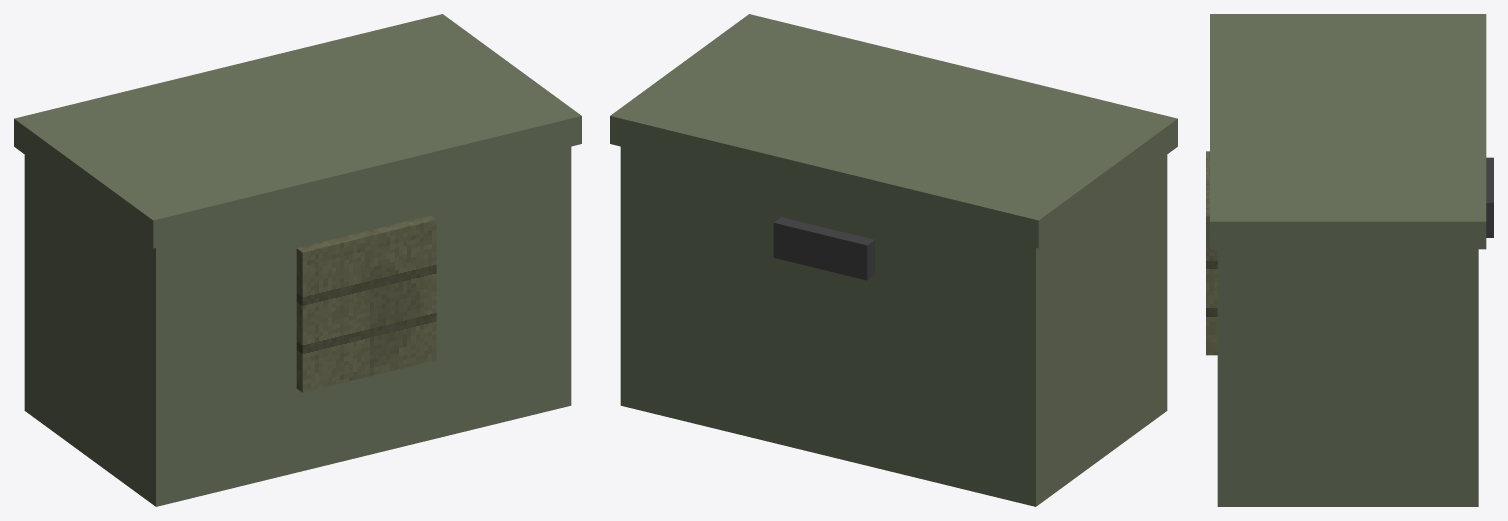
File: fb_medical_chest.glb
3 renders of one model, left to right at view 1: azimuth 30°, elevation 25°; view 2: azimuth 150°, elevation 25°; view 3: azimuth 270°, elevation 25°, orthographic.
Visible parts, largest first — view 1: fb_medical_chest; view 2: fb_medical_chest; view 3: fb_medical_chest.
Part boxes in pixels (box(x1,y1,x2,y2)): fb_medical_chest: box(14, 14, 581, 506); fb_medical_chest: box(610, 14, 1177, 506); fb_medical_chest: box(1206, 14, 1493, 506).
Size of what is drawn, in the model's own units: 0.64 by 0.415 by 0.375.
3 materials, 1 textured.
